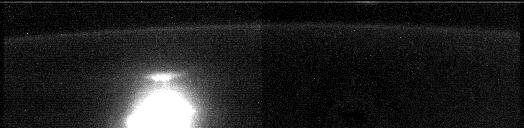negative: (147, 73, 177, 85)
